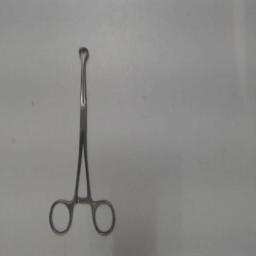Babcock Tissue Forceps: (49, 43, 119, 239)
